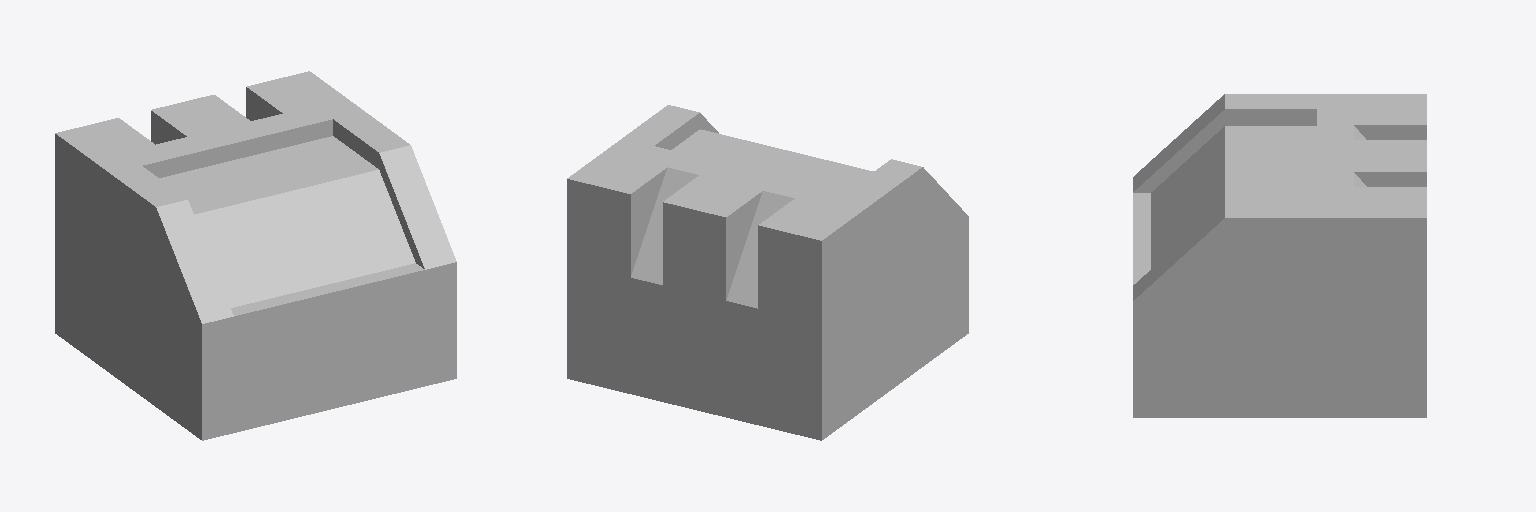
The model's file is ruined_machine_screen_cracked.obj.
3 renders of one model, left to right at view 1: azimuth 30°, elevation 25°; view 2: azimuth 150°, elevation 25°; view 3: azimuth 270°, elevation 25°, orthographic.
Visible parts, largest first — view 1: RuinedMachine1; view 2: RuinedMachine1; view 3: RuinedMachine1.
Part boxes in pixels (x1,y1,x2,y2): RuinedMachine1: (55,71,456,440); RuinedMachine1: (567,105,968,440); RuinedMachine1: (1133,94,1426,417).
Bounding box in the file's own units: 1 × 0.75 × 1.